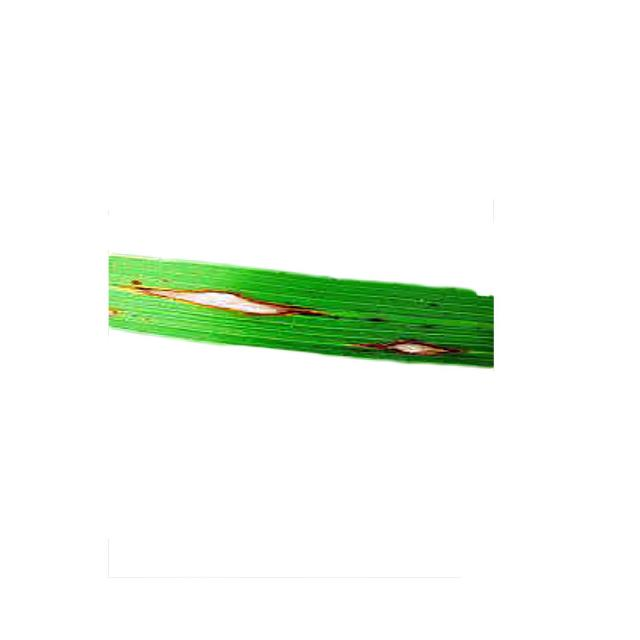Leaf blast: (42, 221, 560, 417)
